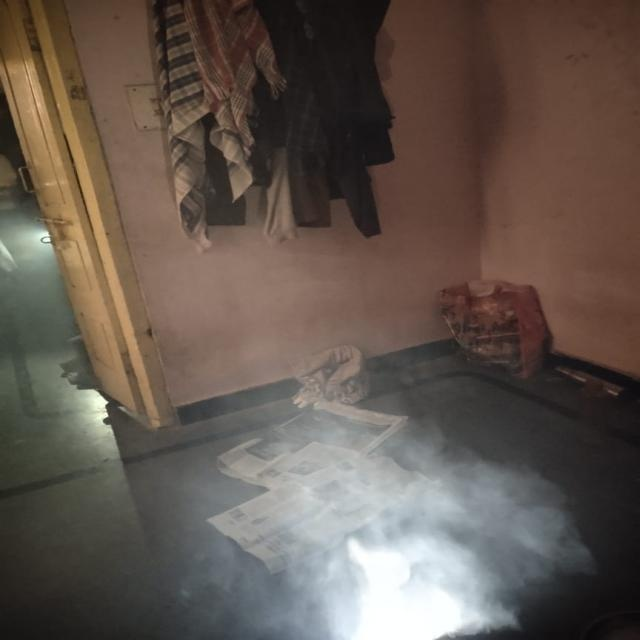smoke: (307, 454, 530, 640)
